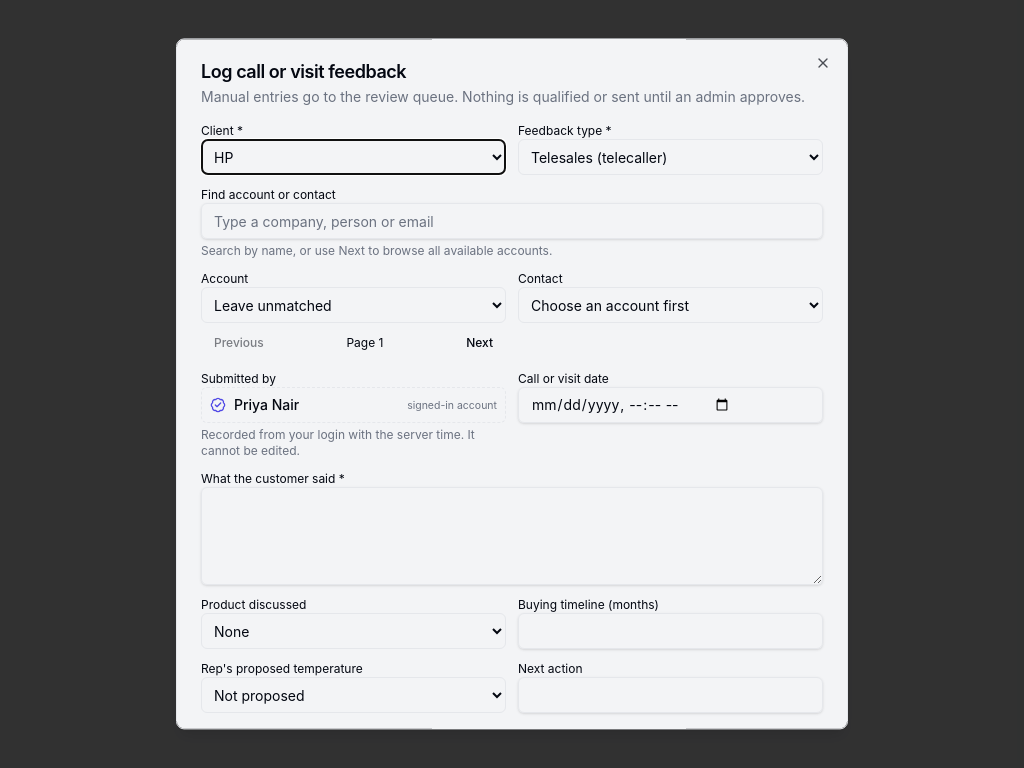
Test: searches beyond the first accounts page and clears account/contact when client changes
Type "Zebra" into the field with test id "input-manual-search".
click(512, 221); type("Zebra")  # box [201,203,823,239]
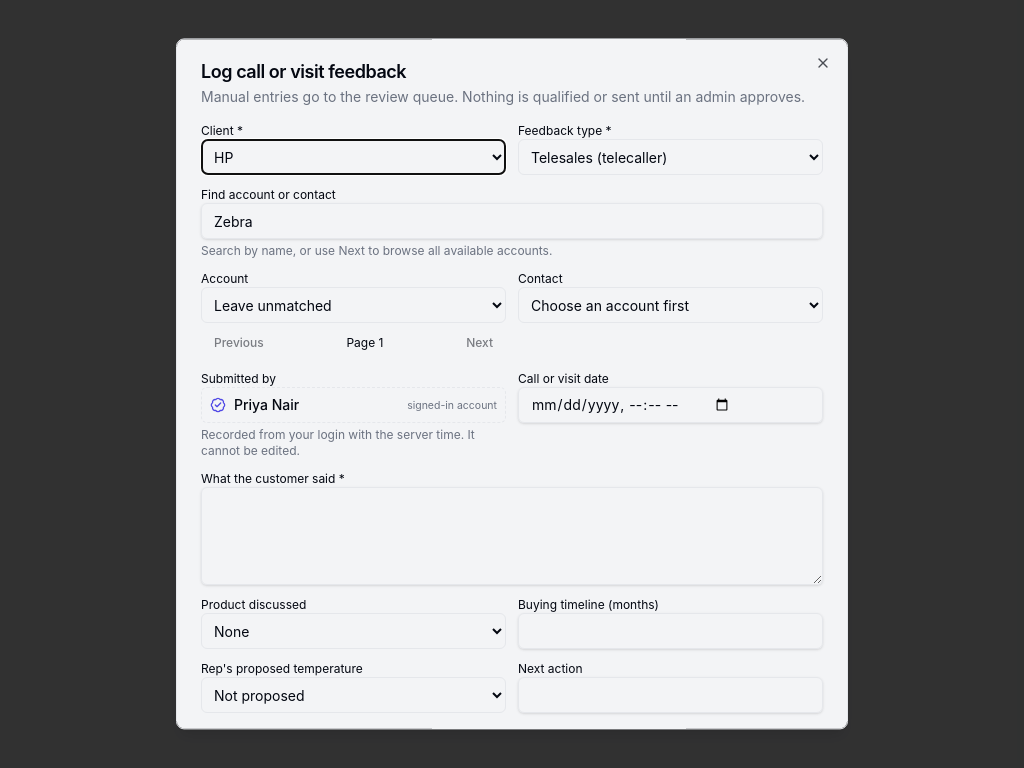
Select "Zebra" in the dropdown with test id "select-manual-account" at coordinates (354, 305), box [201,287,506,323]
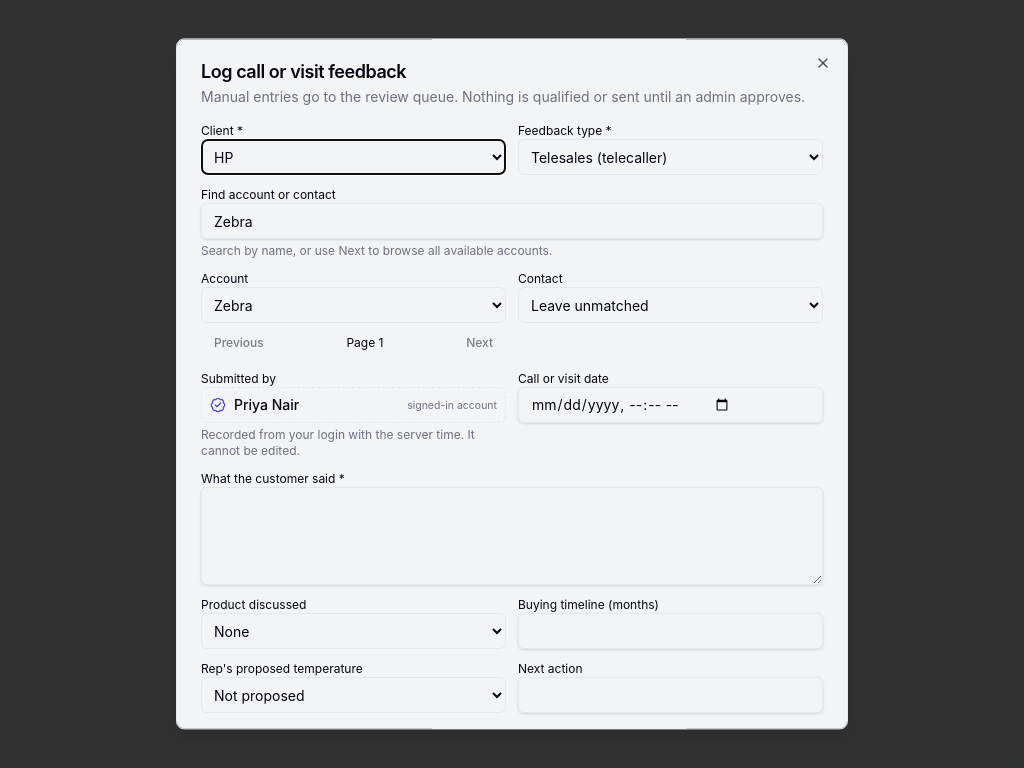
Select "Other client" in the dropdown with test id "select-manual-client" at coordinates (354, 157), box [201,139,506,175]
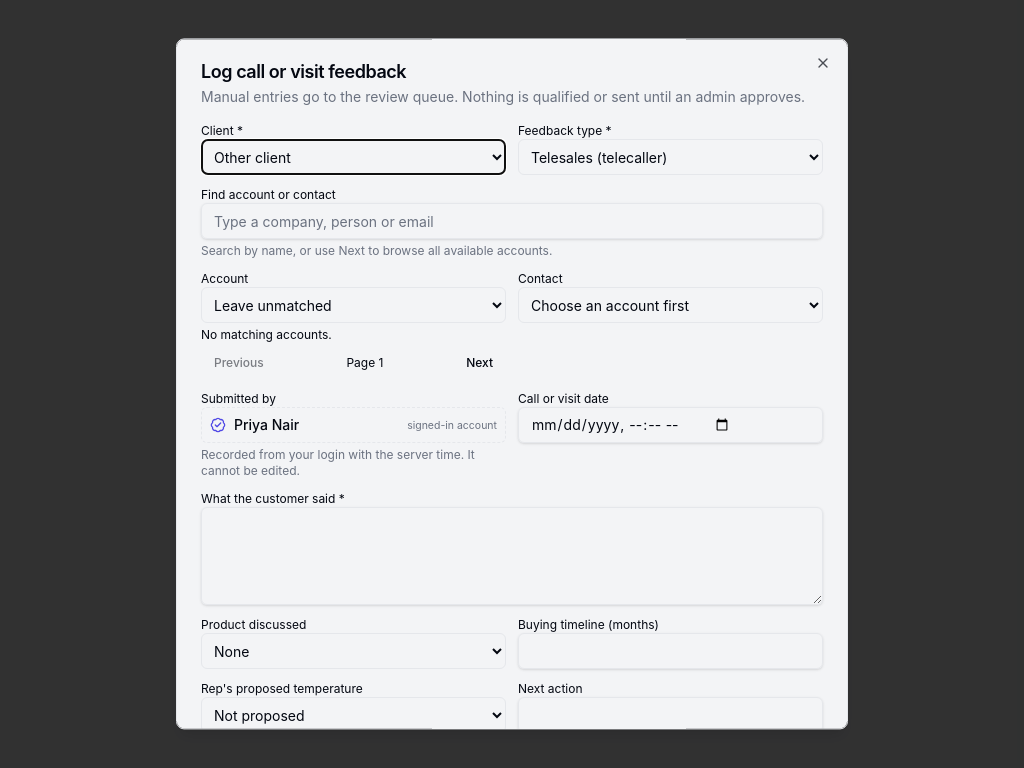
Expected: the text "No matching accounts." is shown, [201,327,332,342]
Expected: the dropdown with test id "select-manual-contact" shows "Choose an account first", [518,287,823,323]
Expected: the dropdown with test id "select-manual-contact" is disabled, [518,287,823,323]
